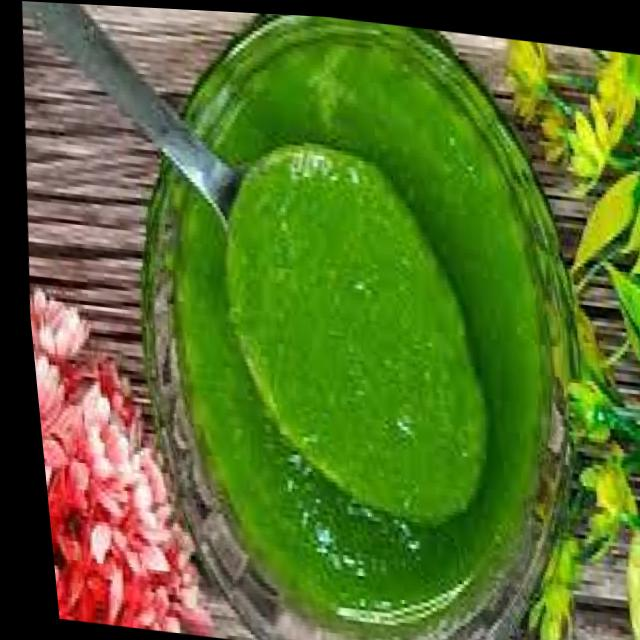GREEN CHUTNEY: (145, 17, 578, 640)
